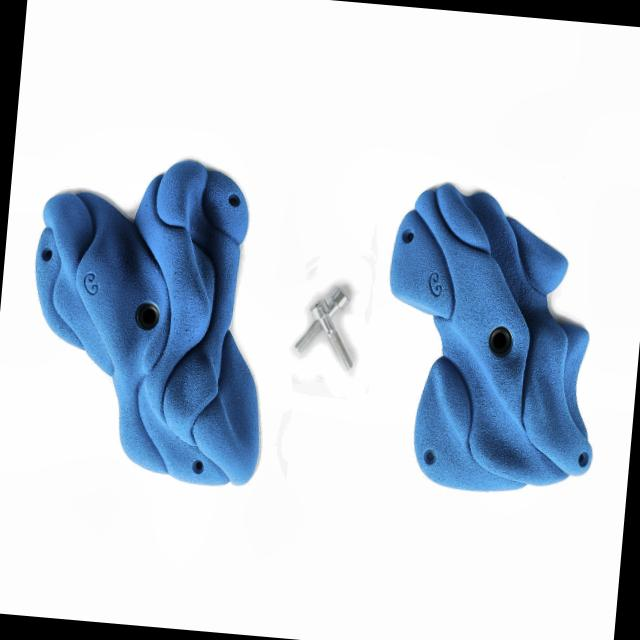Hold: (11, 143, 289, 496), (377, 181, 622, 498)
